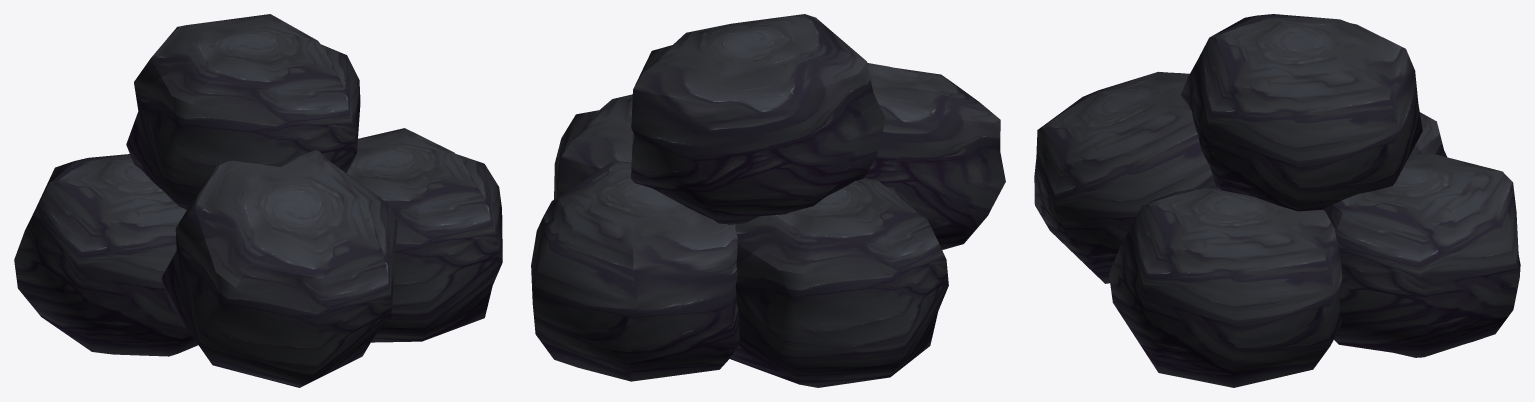
File: relic_DYN_brokenPillarChunkPile.fbx
3 renders of one model, left to right at view 1: azimuth 30°, elevation 25°; view 2: azimuth 150°, elevation 25°; view 3: azimuth 270°, elevation 25°, orthographic. The views are drawn at different scales.
Parts seen in each view (by area): view 1: pCylinder6; view 2: pCylinder6; view 3: pCylinder6.
Boxes of the visible parts, box(x1,y1,x2,y2) form: pCylinder6: box(14, 14, 502, 387); pCylinder6: box(531, 14, 1005, 387); pCylinder6: box(1034, 14, 1520, 387).
Bounding box in the file's own units: 178 × 117 × 185.
